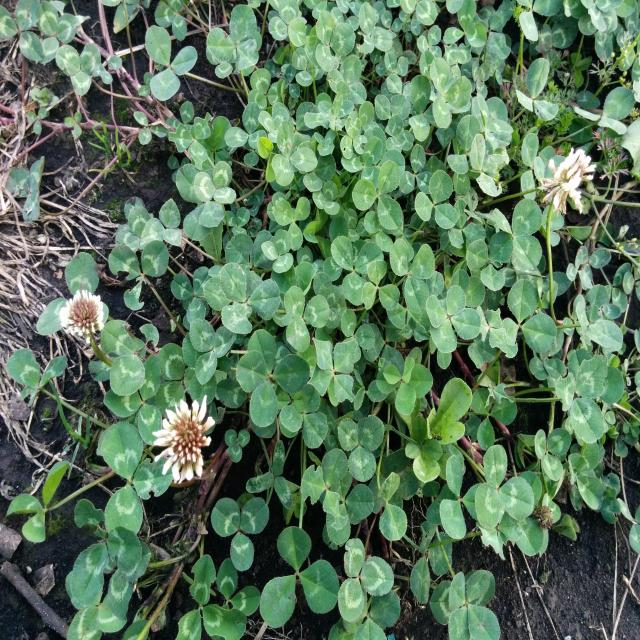Four Leaf Clover: (427, 286, 481, 353)
